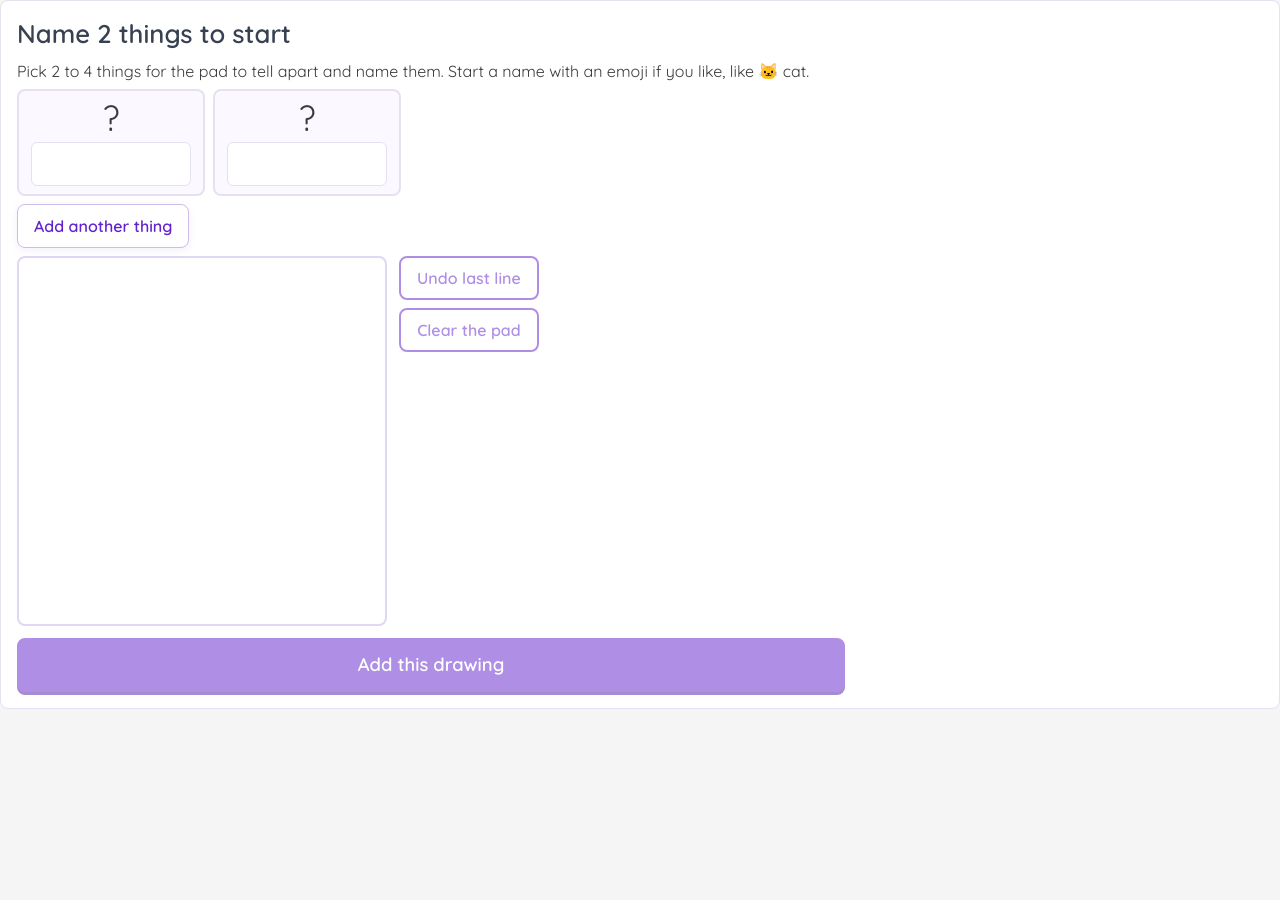
Test: Classifier UI: student-named things › adds and removes things, up to four
Click the button "Add another thing" at {"x": 103, "y": 226}, box [17,204,189,248]
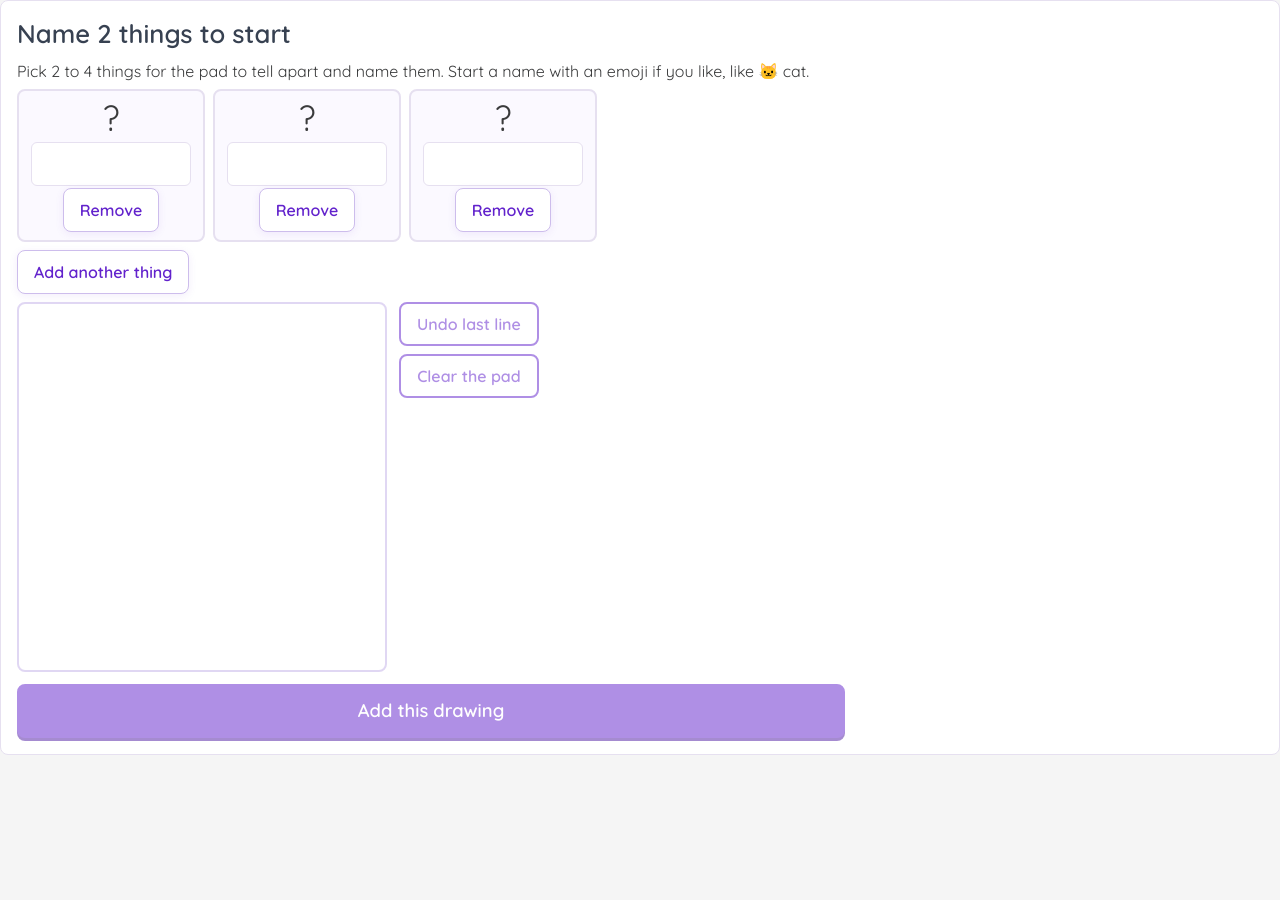
Expected: the number of elements with test id "classifier-thing" is 3, [17,89,205,242]; [213,89,401,242]; [409,89,597,242]
Click the button "Add another thing" at {"x": 103, "y": 272}, box [17,250,189,294]
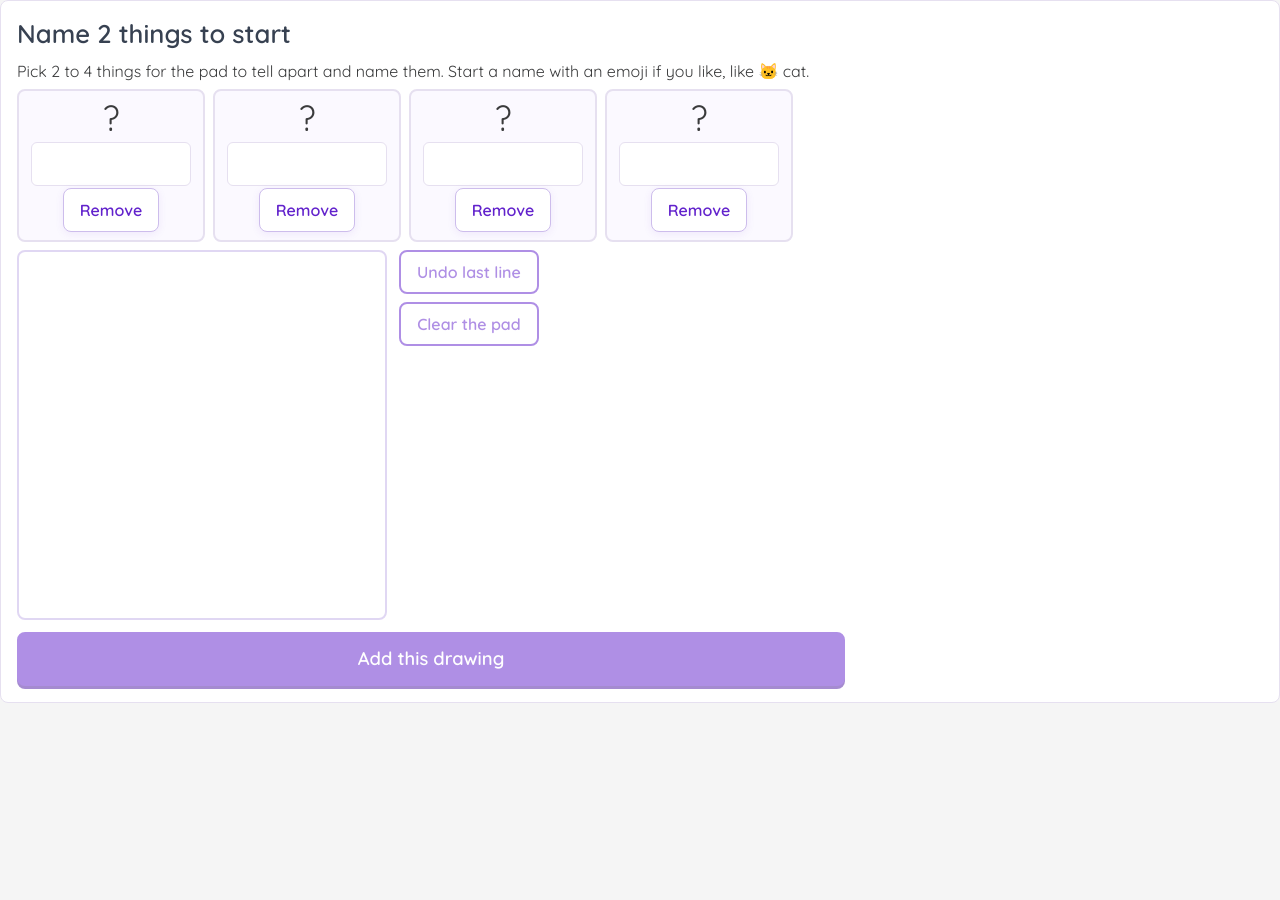
Expected: the number of elements with test id "classifier-thing" is 4, [17,89,205,242]; [213,89,401,242]; [409,89,597,242]; [605,89,793,242]
Expected: the button "Add another thing" is gone
Click the button with aria-label "Remove thing 4" at {"x": 699, "y": 210}, box [651,188,747,232]
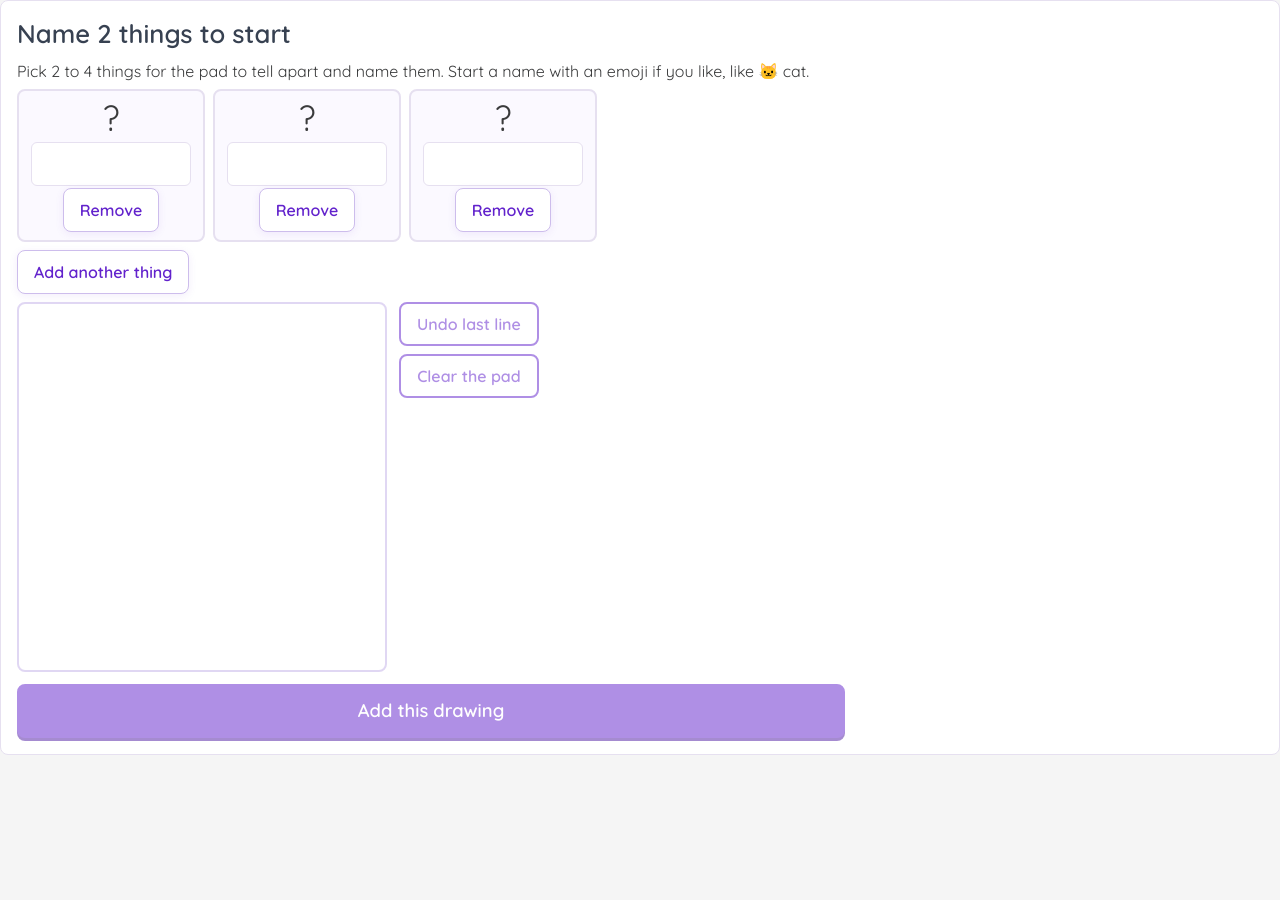
Expected: the number of elements with test id "classifier-thing" is 3, [17,89,205,242]; [213,89,401,242]; [409,89,597,242]
